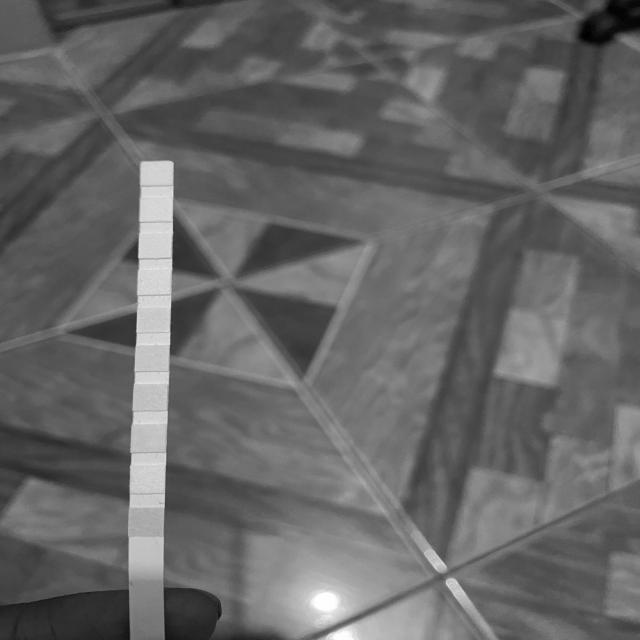Bilirubin: (131, 465, 165, 493)
Blood: (136, 345, 169, 371)
Glucose: (129, 508, 164, 536)
Ketone: (132, 425, 167, 452)
Leukocytes: (140, 162, 173, 185)
Nitrite: (140, 198, 172, 222)
Protein: (138, 270, 171, 294)
SpGravity: (134, 384, 168, 411)
Urobilinogen: (139, 234, 173, 258)
background: (0, 0, 640, 640)
pH: (138, 308, 170, 332)
strip: (129, 161, 173, 640)
